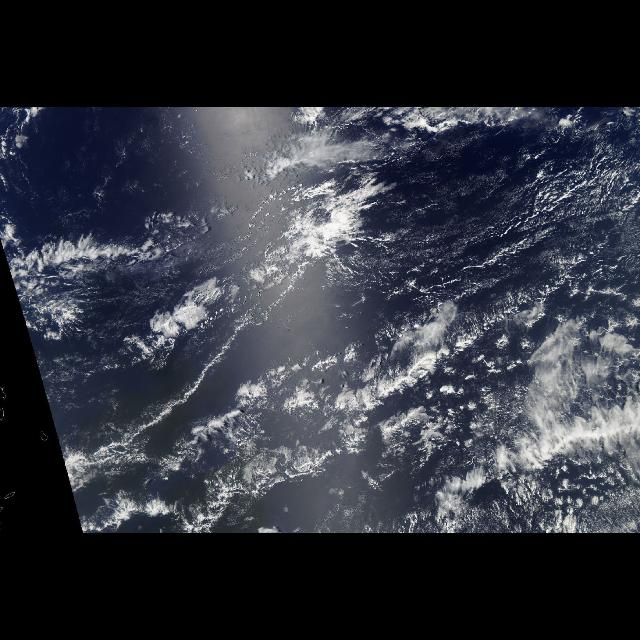Fish: (66, 347, 482, 533)
Flower: (300, 295, 640, 533)
Sugar: (392, 148, 640, 298)
